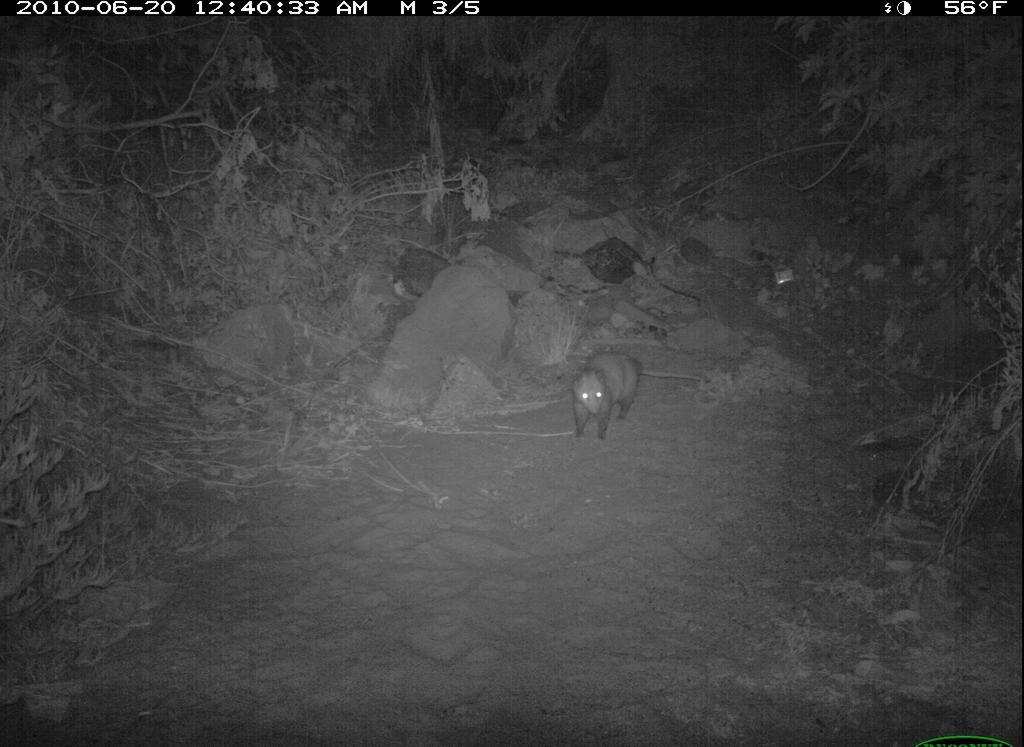opossum: (565, 338, 660, 449)
